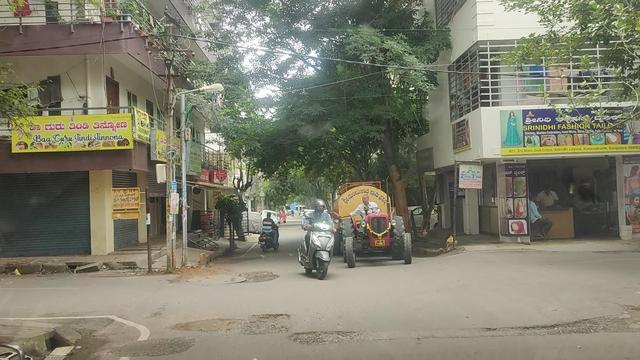HMV: (329, 186, 403, 263)
LMV: (300, 201, 335, 278)
RoadDamages: (465, 314, 629, 334), (174, 312, 286, 337), (115, 329, 195, 360), (291, 323, 365, 346), (188, 272, 246, 288)
